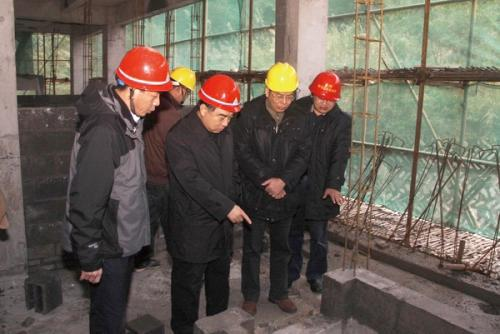helmet: (111, 42, 176, 123), (192, 73, 243, 132), (263, 59, 301, 112), (310, 68, 347, 115), (166, 67, 202, 107)
